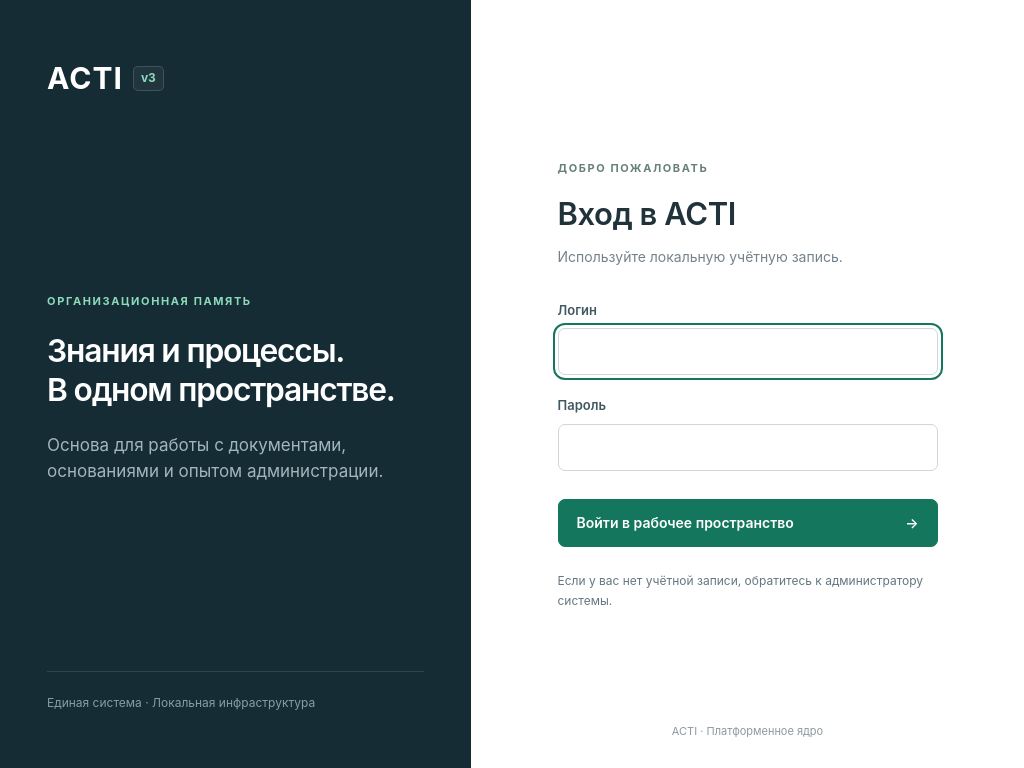
Scenario: submits a pending login only once
The width and height of the screenshot is (1024, 768).
In the field labelled "Логин": x=748, y=352 [558,328,938,376], type "admin"
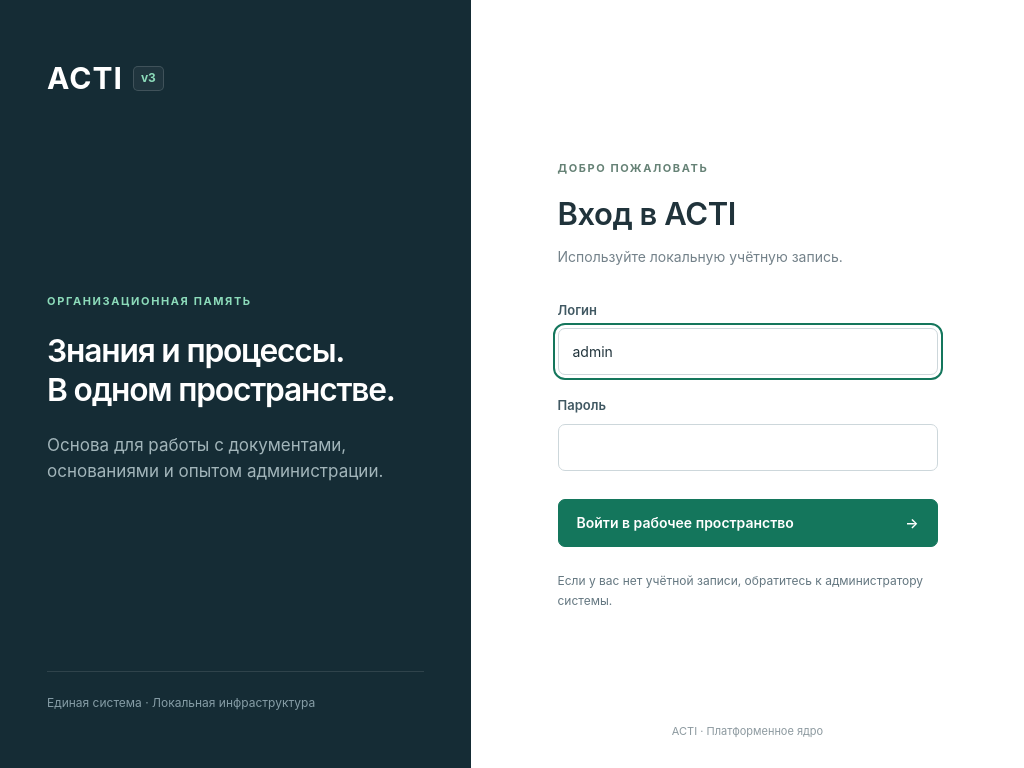
In the password field labelled "Пароль": x=748, y=447 [558,424,938,471], type "synthetic-password"
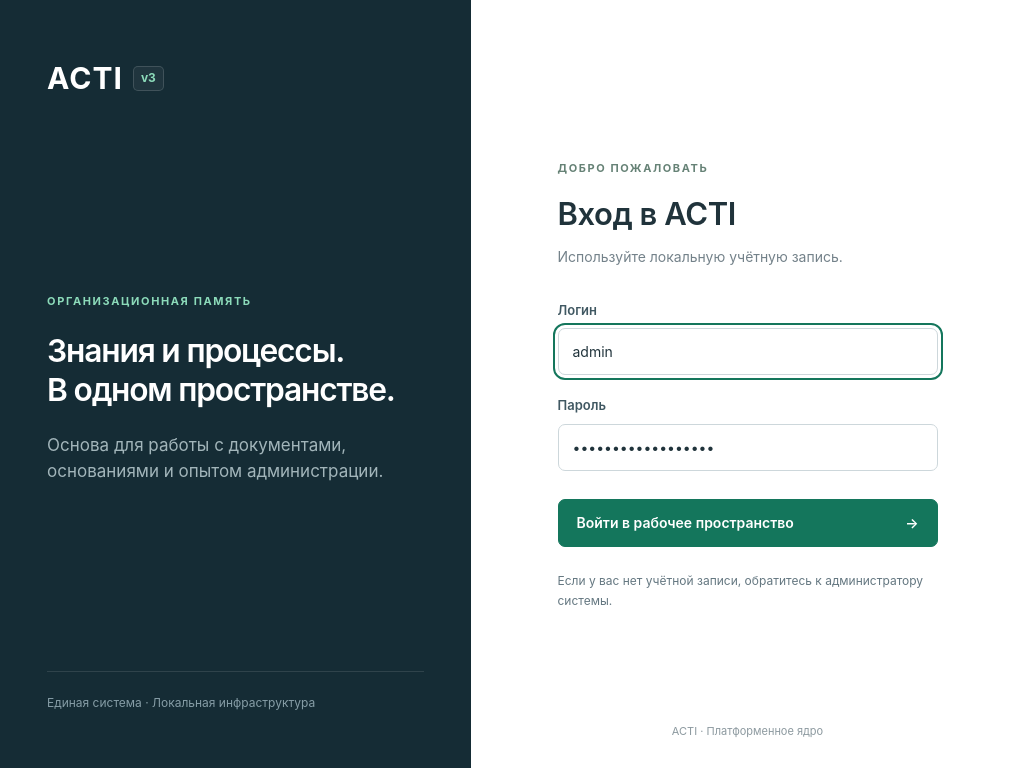
Submit the form named "Вход в ACTI", box [558,300,938,547]
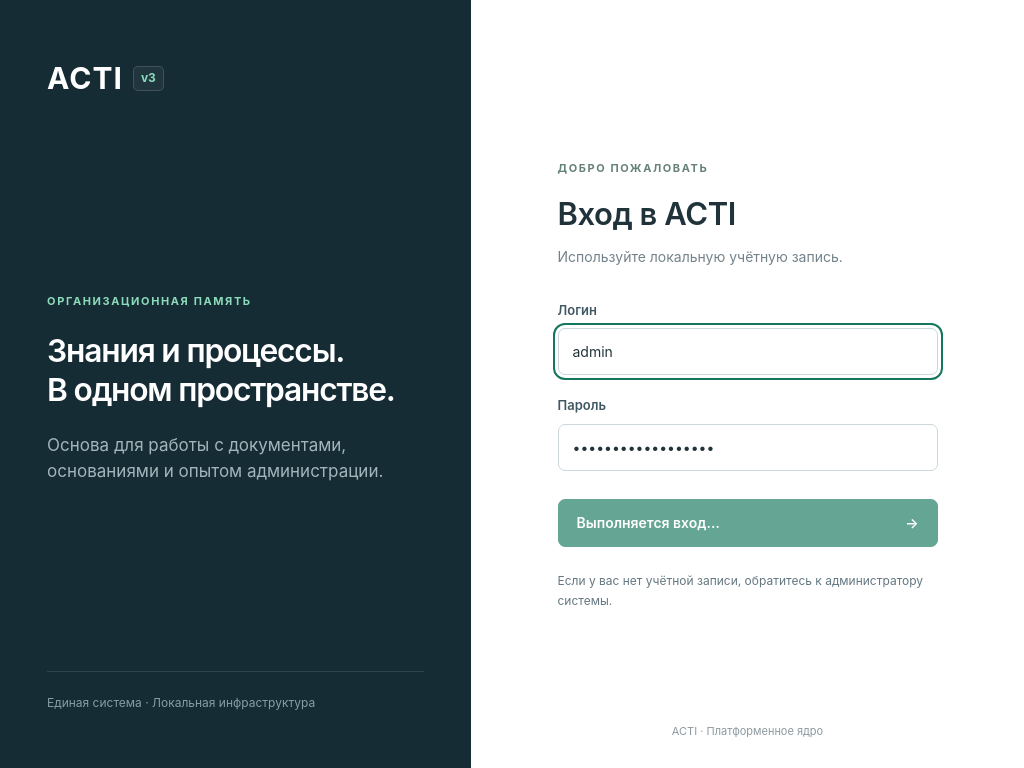
Submit the form named "Вход в ACTI", box [558,300,938,547]
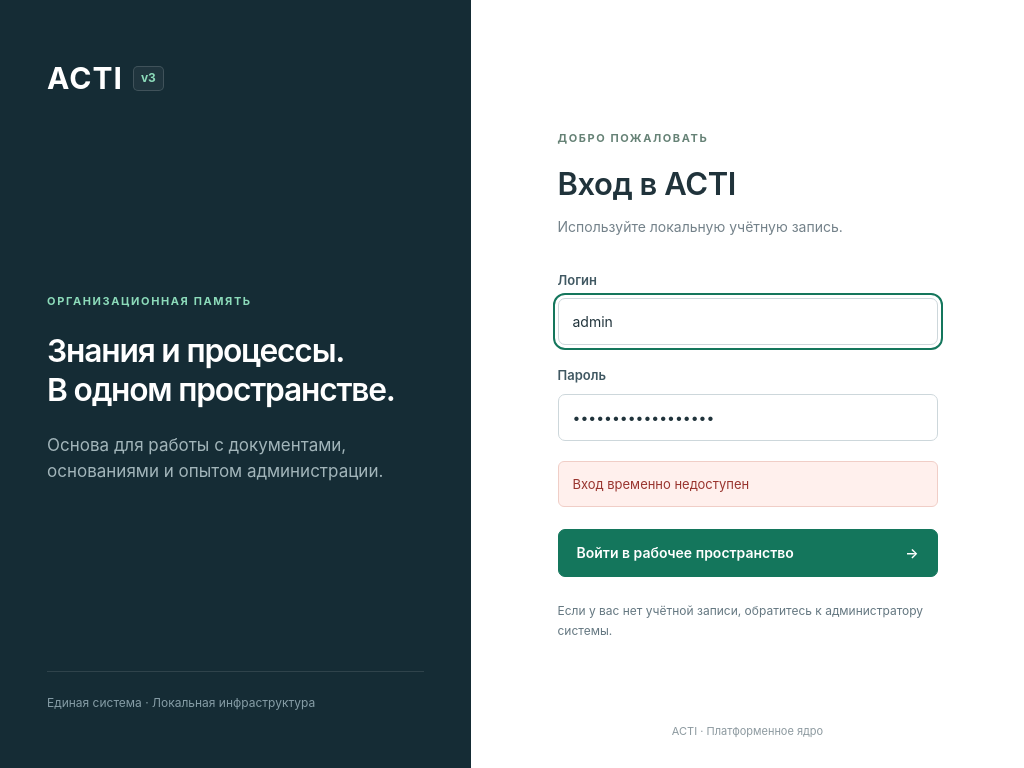
expect the message reads "Вход временно недоступен": met, box [572,476,749,492]
